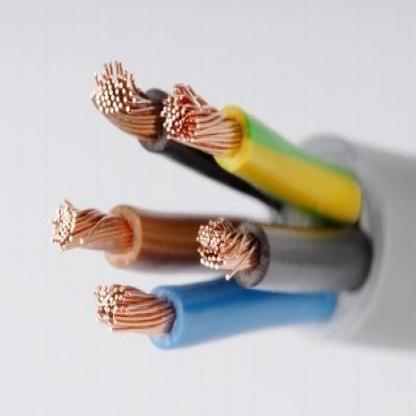wires: (46, 51, 373, 354)
